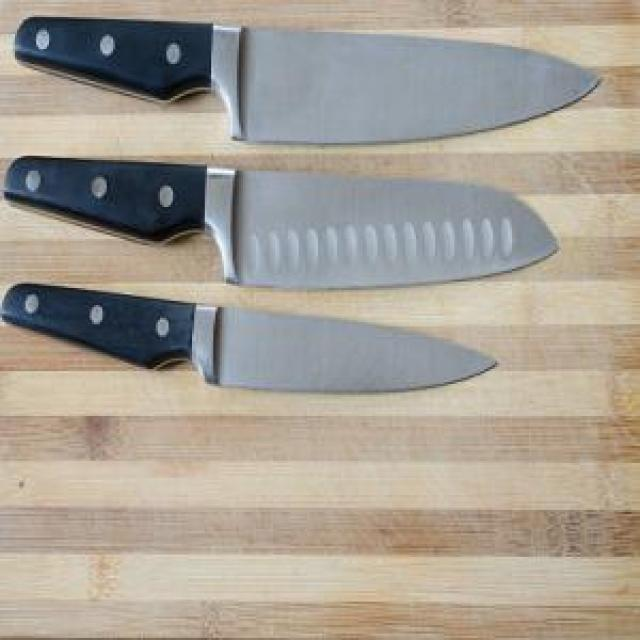knife: (0, 153, 582, 289), (11, 17, 607, 149), (0, 281, 503, 392)
